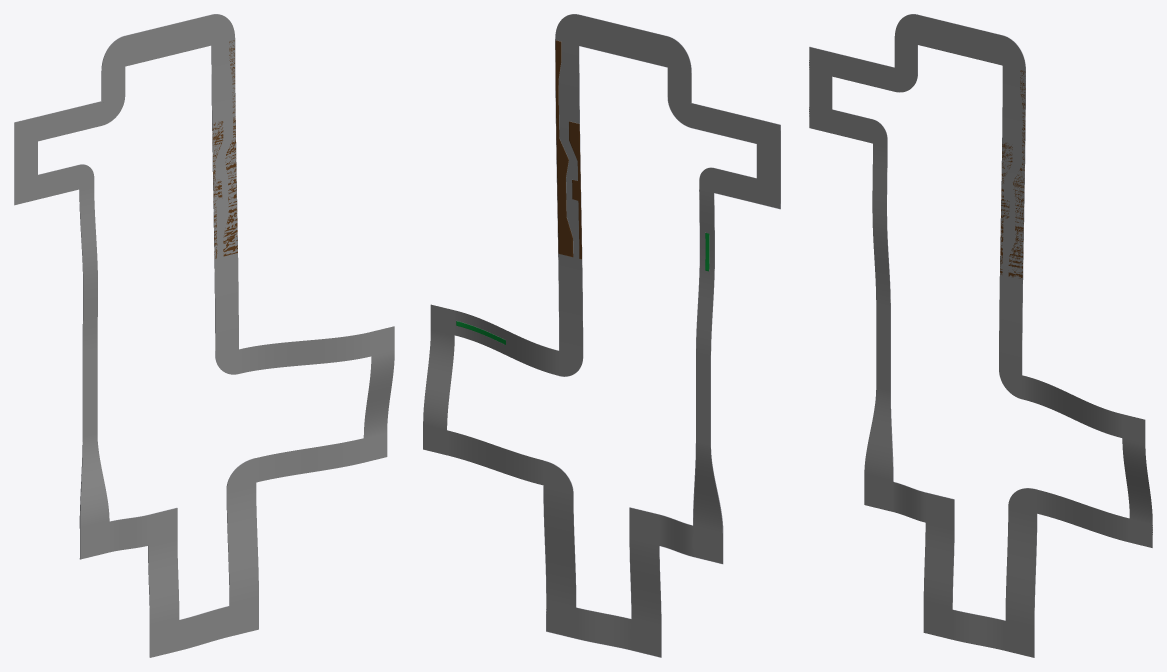
Rendered from track.obj.
The picture shows the model from 3 angles, left to right: view 1: azimuth 30°, elevation 25°; view 2: azimuth 150°, elevation 25°; view 3: azimuth 330°, elevation 25°; orthographic projection. The views are drawn at different scales.
Parts seen in each view (by area): view 1: FZGXStream22.000_PreviewMesh, FZGXStream12.000_PreviewMesh, FZGXStream20.000_PreviewMesh, FZGXStream24.000_PreviewMesh, FZGXStream14.000_PreviewMesh, FZGXStream36.000_PreviewMesh, FZGXStream6.000_PreviewMesh, FZGXStream0.000_PreviewMesh, FZGXStream17.000_PreviewMesh, FZGXStream9.000_PreviewMesh, FZGXStream28.000_PreviewMesh, COL_DIRT (+9 smaller); view 2: FZGXStream22.000_PreviewMesh, FZGXStream12.000_PreviewMesh, FZGXStream24.000_PreviewMesh, FZGXStream20.000_PreviewMesh, FZGXStream36.000_PreviewMesh, FZGXStream14.000_PreviewMesh, FZGXStream6.000_PreviewMesh, FZGXStream17.000_PreviewMesh, FZGXStream0.000_PreviewMesh, FZGXStream9.000_PreviewMesh, FZGXStream28.000_PreviewMesh, FZGXStream37.000_PreviewMesh (+9 smaller); view 3: FZGXStream22.000_PreviewMesh, FZGXStream12.000_PreviewMesh, FZGXStream24.000_PreviewMesh, FZGXStream20.000_PreviewMesh, FZGXStream36.000_PreviewMesh, FZGXStream6.000_PreviewMesh, FZGXStream14.000_PreviewMesh, FZGXStream0.000_PreviewMesh, FZGXStream17.000_PreviewMesh, FZGXStream9.000_PreviewMesh, FZGXStream28.000_PreviewMesh, FZGXStream37.000_PreviewMesh (+9 smaller).
Part boxes in pixels (x1,y1,x2,y2): FZGXStream22.000_PreviewMesh: (211,40,238,354); FZGXStream12.000_PreviewMesh: (226,482,258,605); FZGXStream20.000_PreviewMesh: (240,332,371,373); FZGXStream24.000_PreviewMesh: (125,15,211,66); FZGXStream14.000_PreviewMesh: (256,438,363,482); FZGXStream36.000_PreviewMesh: (79,186,97,350); FZGXStream6.000_PreviewMesh: (148,538,179,627); FZGXStream0.000_PreviewMesh: (80,434,109,528); FZGXStream17.000_PreviewMesh: (363,351,394,437); FZGXStream9.000_PreviewMesh: (179,606,229,650); FZGXStream28.000_PreviewMesh: (38,101,101,140); COL_DIRT: (212,40,237,258); FZGXStream22.000_PreviewMesh: (555,40,583,356); FZGXStream12.000_PreviewMesh: (543,485,576,607); FZGXStream24.000_PreviewMesh: (579,15,667,67); FZGXStream20.000_PreviewMesh: (454,310,559,375); FZGXStream36.000_PreviewMesh: (696,189,714,358); FZGXStream14.000_PreviewMesh: (447,430,543,485); FZGXStream6.000_PreviewMesh: (629,538,661,626); FZGXStream17.000_PreviewMesh: (423,329,454,429); FZGXStream0.000_PreviewMesh: (693,442,722,532); FZGXStream9.000_PreviewMesh: (576,607,631,650); FZGXStream28.000_PreviewMesh: (691,103,756,143); FZGXStream37.000_PreviewMesh: (696,355,710,445); FZGXStream22.000_PreviewMesh: (999,66,1025,374); FZGXStream12.000_PreviewMesh: (1005,506,1037,627); FZGXStream24.000_PreviewMesh: (917,14,1002,65); FZGXStream20.000_PreviewMesh: (1023,375,1122,437); FZGXStream36.000_PreviewMesh: (872,143,890,307); FZGXStream6.000_PreviewMesh: (923,523,954,609); FZGXStream14.000_PreviewMesh: (1037,490,1129,542); FZGXStream0.000_PreviewMesh: (864,388,893,481); FZGXStream17.000_PreviewMesh: (1122,438,1152,523); FZGXStream9.000_PreviewMesh: (952,609,1005,650); FZGXStream28.000_PreviewMesh: (832,52,894,91); FZGXStream37.000_PreviewMesh: (876,304,890,391).
Size of the model in its own units: 2218 by 3630 by 204.
